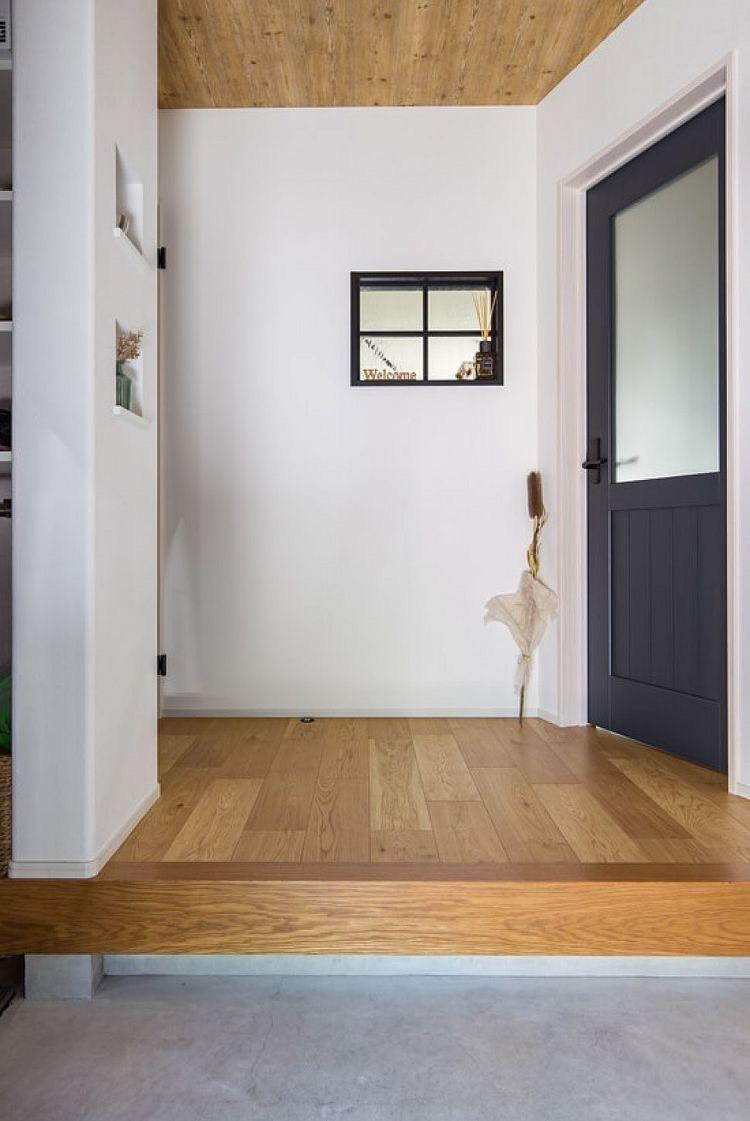floor: (0, 975, 749, 1120)
safe: (88, 718, 749, 881)
